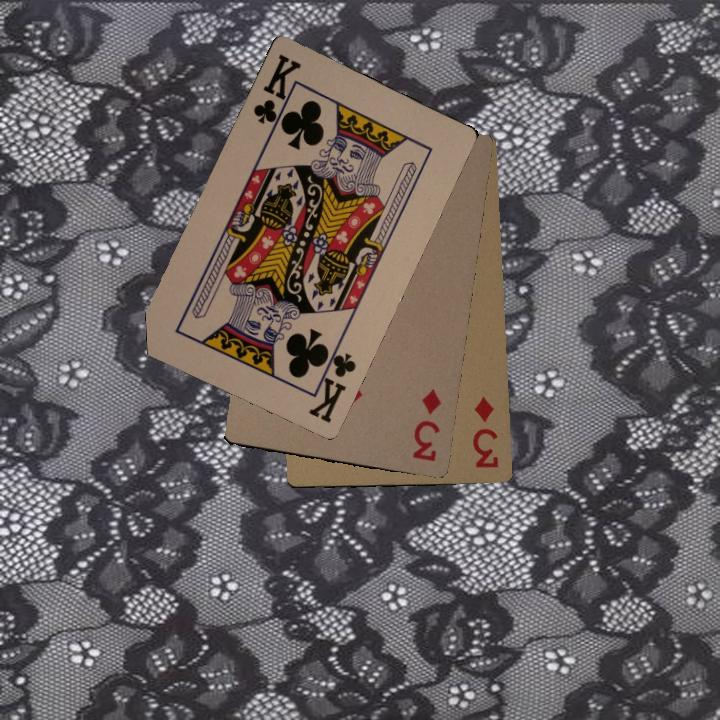3d: (408, 385, 444, 464), (468, 392, 501, 471)
Kc: (304, 340, 359, 426), (249, 50, 304, 134)
